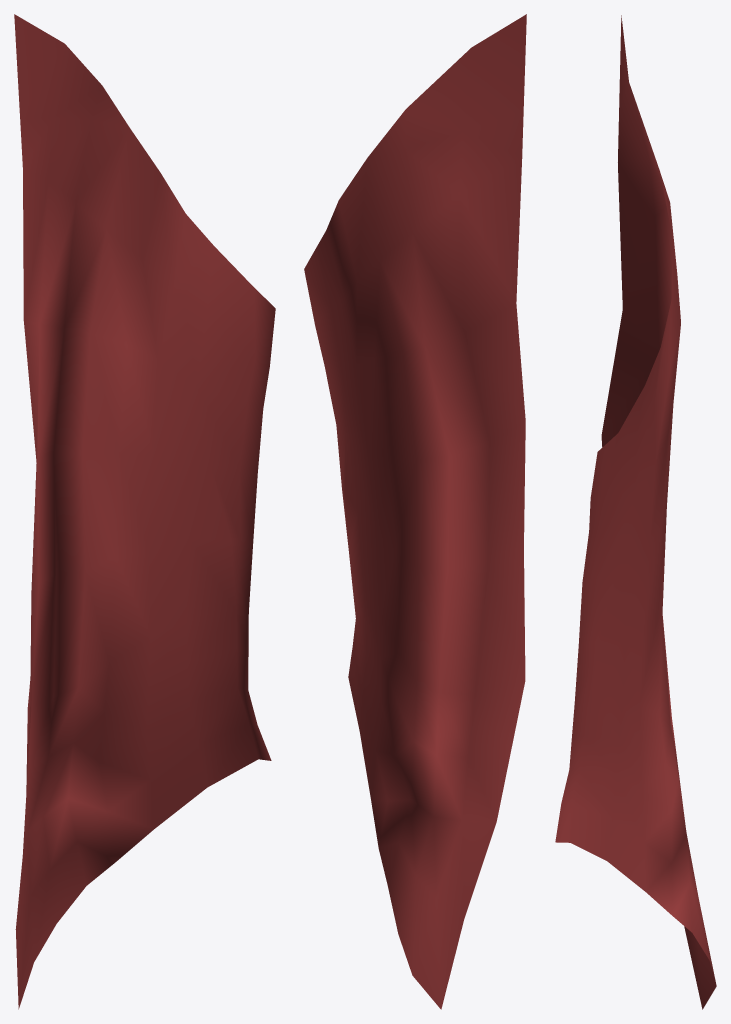
File: middle-layer-of-thoracolumbar-fascia-l.glb
The picture shows the model from 3 angles, left to right: view 1: azimuth 30°, elevation 25°; view 2: azimuth 150°, elevation 25°; view 3: azimuth 270°, elevation 25°; orthographic projection. The views are drawn at different scales.
Parts seen in each view (by area): view 1: Middle layer of thoracolumbar fascia.l; view 2: Middle layer of thoracolumbar fascia.l; view 3: Middle layer of thoracolumbar fascia.l.
Boxes of the visible parts, left/top/right/bottom form: Middle layer of thoracolumbar fascia.l: left=14, top=14, right=275, bottom=1009; Middle layer of thoracolumbar fascia.l: left=304, top=14, right=526, bottom=1009; Middle layer of thoracolumbar fascia.l: left=555, top=15, right=716, bottom=1009.
Size of the model in its own units: 0.0456 by 0.182 by 0.0273.
